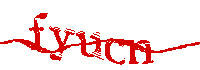c: (106, 36, 127, 66)
f: (29, 10, 49, 53)
n: (128, 39, 154, 66)
u: (77, 31, 105, 61)
y: (49, 24, 74, 64)
